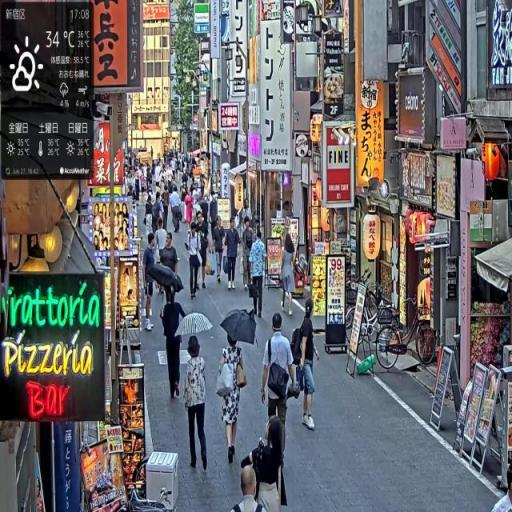person: (261, 313, 299, 448), (242, 418, 289, 512), (217, 337, 249, 467), (182, 335, 210, 477), (293, 295, 319, 434), (161, 284, 187, 401), (248, 229, 268, 320), (233, 465, 269, 512), (280, 229, 299, 318), (144, 234, 161, 332), (187, 218, 205, 299), (225, 217, 240, 294), (213, 216, 227, 287), (243, 218, 256, 291), (171, 186, 184, 235)
